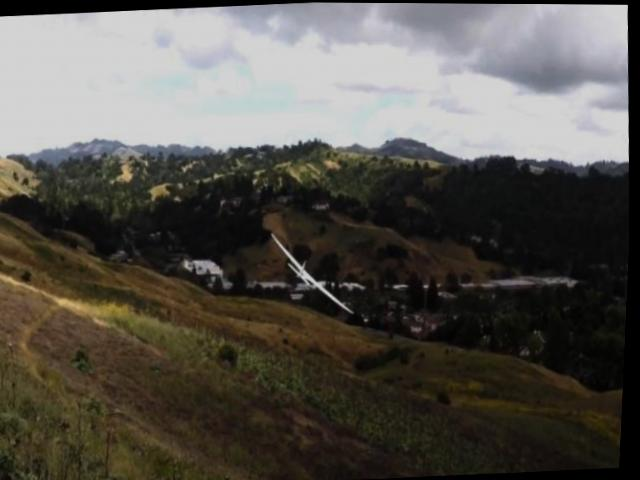iha: (264, 225, 358, 318)
